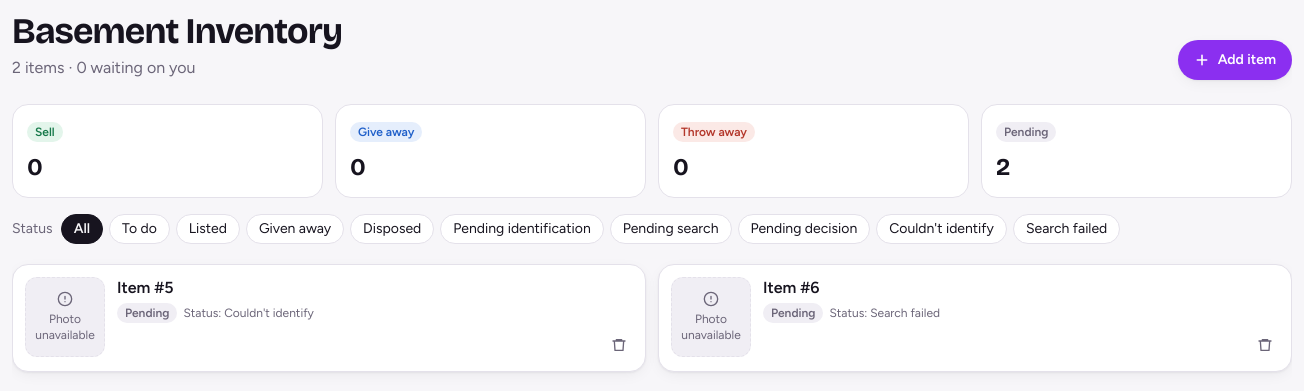
Test: InventoryPage › offers chips for failure statuses and shows friendly labels
Expected: the link "Item #5" is shown, [117, 278, 174, 297]
Expected: the text "Status: Couldn't identify" is shown, [183, 305, 314, 321]
Click the button "Search failed" at (1067, 229), box [1013, 214, 1120, 244]
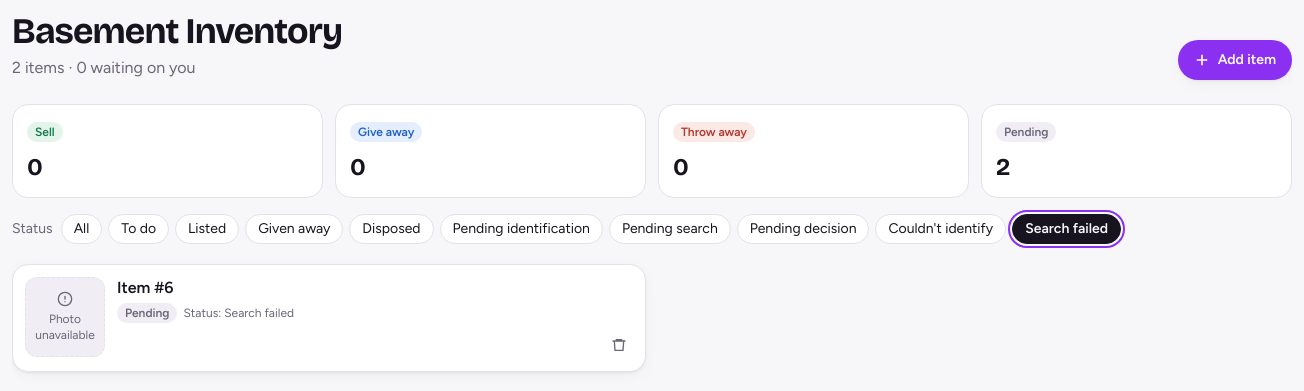
Expected: the link "Item #6" is shown, [117, 278, 174, 297]
Now the link "Item #5" is gone
